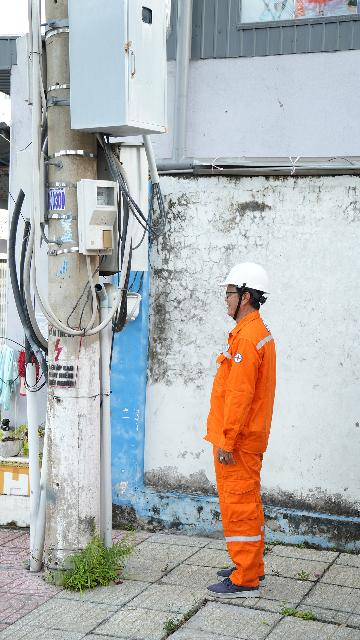helmet: (216, 254, 281, 311)
shoes: (196, 567, 270, 608), (209, 557, 280, 585)
